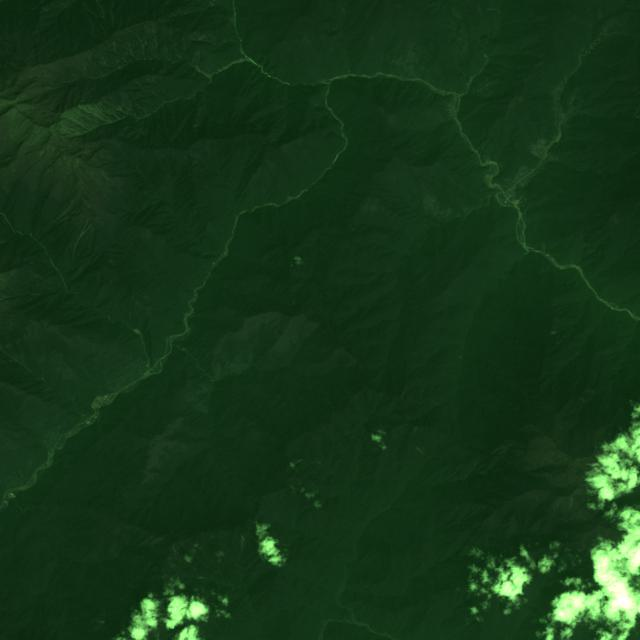landslides: (52, 192, 81, 223), (72, 224, 91, 263), (60, 109, 89, 131), (202, 50, 234, 69), (79, 104, 109, 123), (73, 105, 99, 125), (127, 29, 144, 59), (91, 103, 112, 123), (97, 102, 120, 120), (511, 592, 530, 613), (600, 572, 620, 587), (556, 409, 579, 420), (550, 324, 575, 334), (207, 61, 221, 74), (620, 547, 629, 567), (95, 0, 105, 17), (199, 547, 212, 559), (135, 104, 148, 115), (94, 62, 104, 76), (262, 499, 274, 510), (258, 508, 279, 514), (416, 446, 426, 458), (553, 327, 568, 335), (115, 107, 128, 116), (172, 547, 181, 560), (544, 264, 555, 274), (392, 432, 400, 445)
